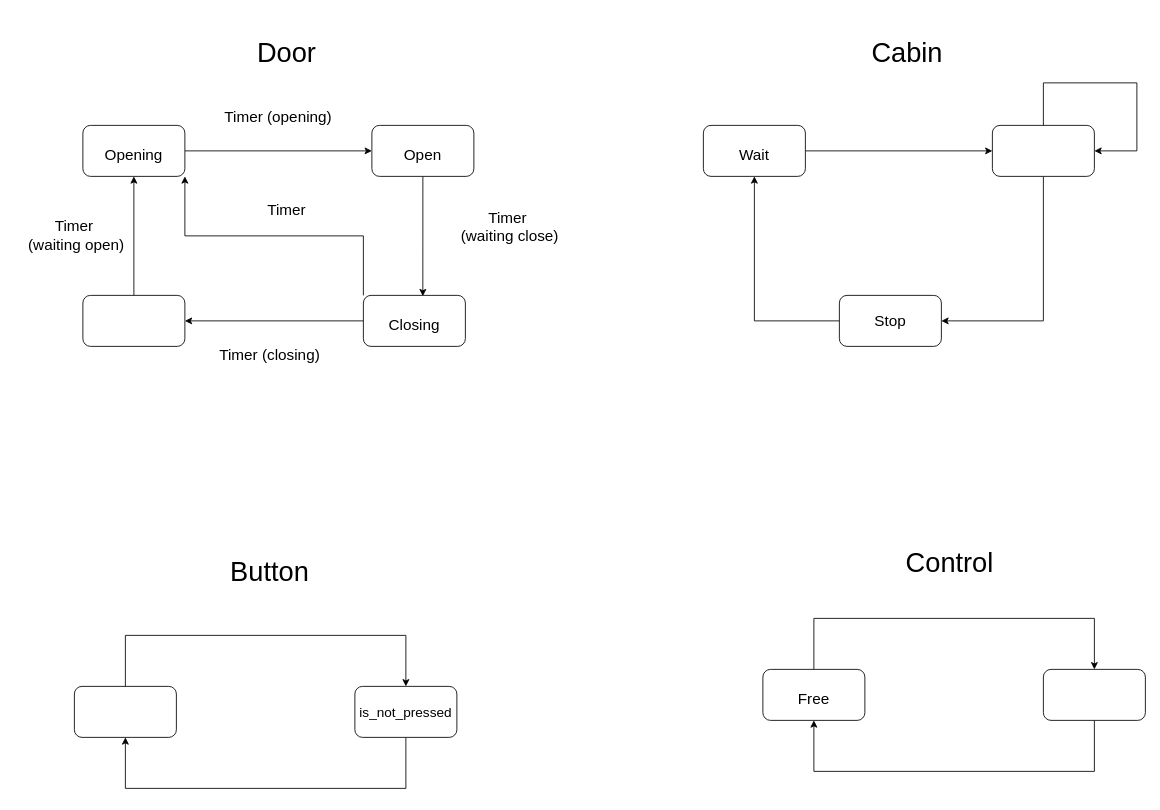
Image size: 1160x810. Some labels were removed from this diagram. The centre of each missing label's shape, as x and y in pixels:
Busy: point (1094, 694)
Closed: point (133, 320)
is_pressed: point (125, 711)
Move: point (1043, 150)
